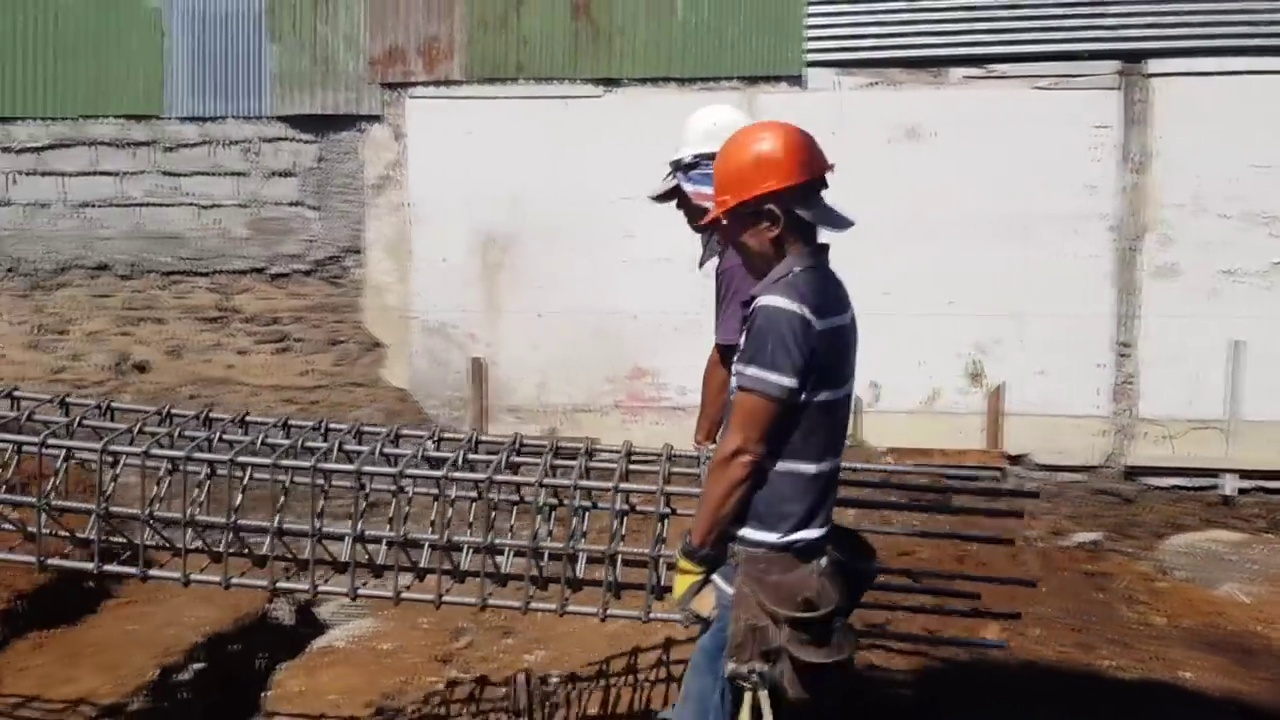helmet: (704, 116, 835, 216), (668, 100, 763, 167)
helmet-on: (708, 113, 843, 291), (643, 102, 764, 249)
person: (665, 103, 871, 697), (647, 95, 766, 486)
